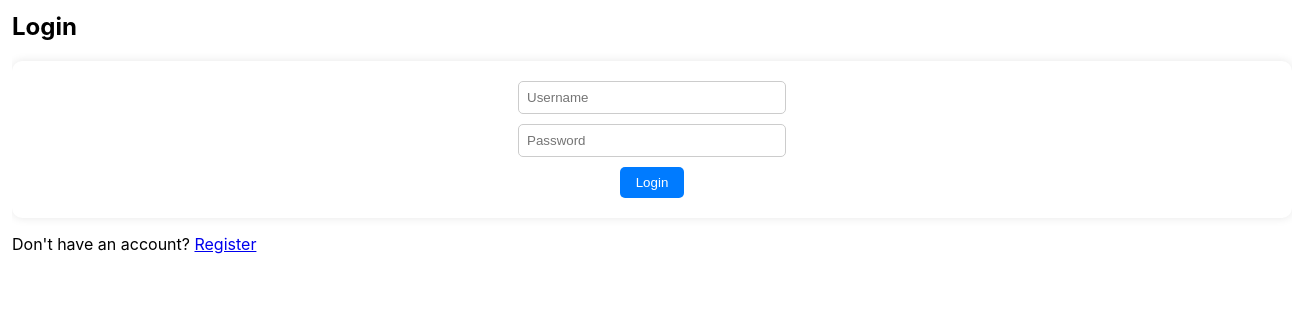
Scenario: Login Component › displays error message for invalid credentials
The image size is (1292, 323).
Click the button with test id "login-button". click: x=652, y=182
box: [620,167,684,198]
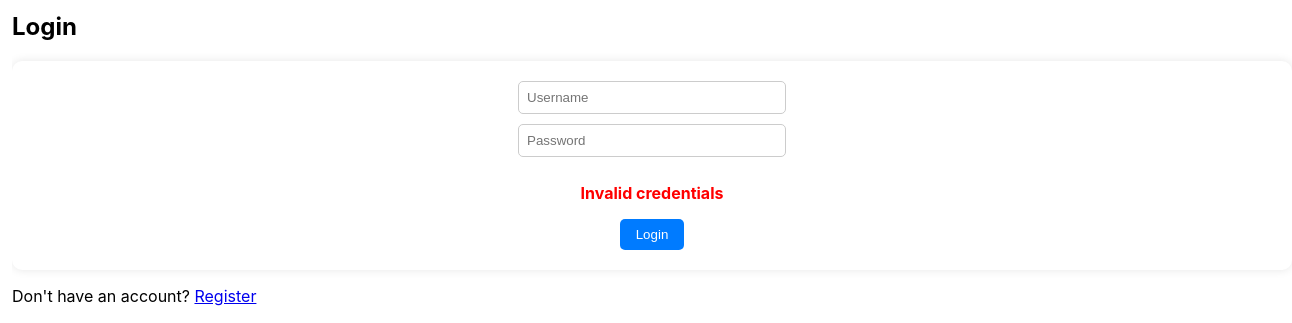
expect the text "Invalid credentials" is shown: met, box [580,183,723,203]
